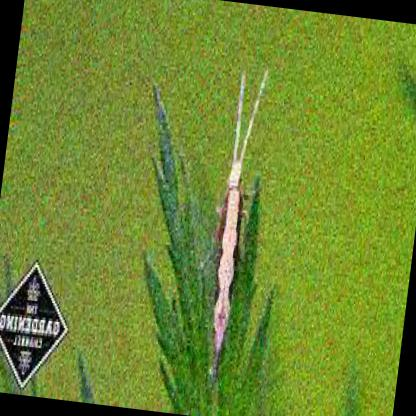plutella: (205, 52, 276, 382)
